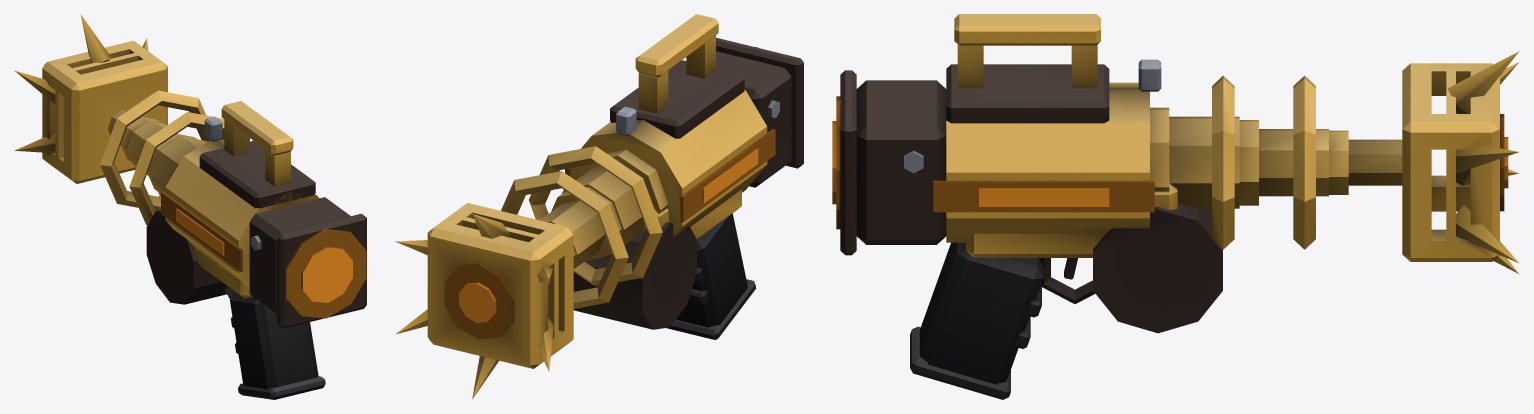
Rendered from Nova.fbx.
3 renders of one model, left to right at view 1: azimuth 30°, elevation 25°; view 2: azimuth 150°, elevation 25°; view 3: azimuth 270°, elevation 25°, orthographic. The views are drawn at different scales.
Parts seen in each view (by area): view 1: Body, Halo_Glow, Accent_Glow; view 2: Body, Halo_Glow, Accent_Glow; view 3: Body, Halo_Glow, Accent_Glow.
Boxes of the visible parts, left/top/right/bottom form: Body: left=14, top=14, right=366, bottom=399; Halo_Glow: left=161, top=191, right=366, bottom=318; Accent_Glow: left=176, top=208, right=352, bottom=302; Body: left=395, top=14, right=803, bottom=399; Halo_Glow: left=444, top=47, right=775, bottom=339; Accent_Glow: left=459, top=149, right=758, bottom=322; Body: left=840, top=14, right=1519, bottom=399; Halo_Glow: left=836, top=96, right=1504, bottom=229; Accent_Glow: left=832, top=121, right=1508, bottom=206.
Size of the model in its own units: 1.31 by 2.47 by 4.22.
